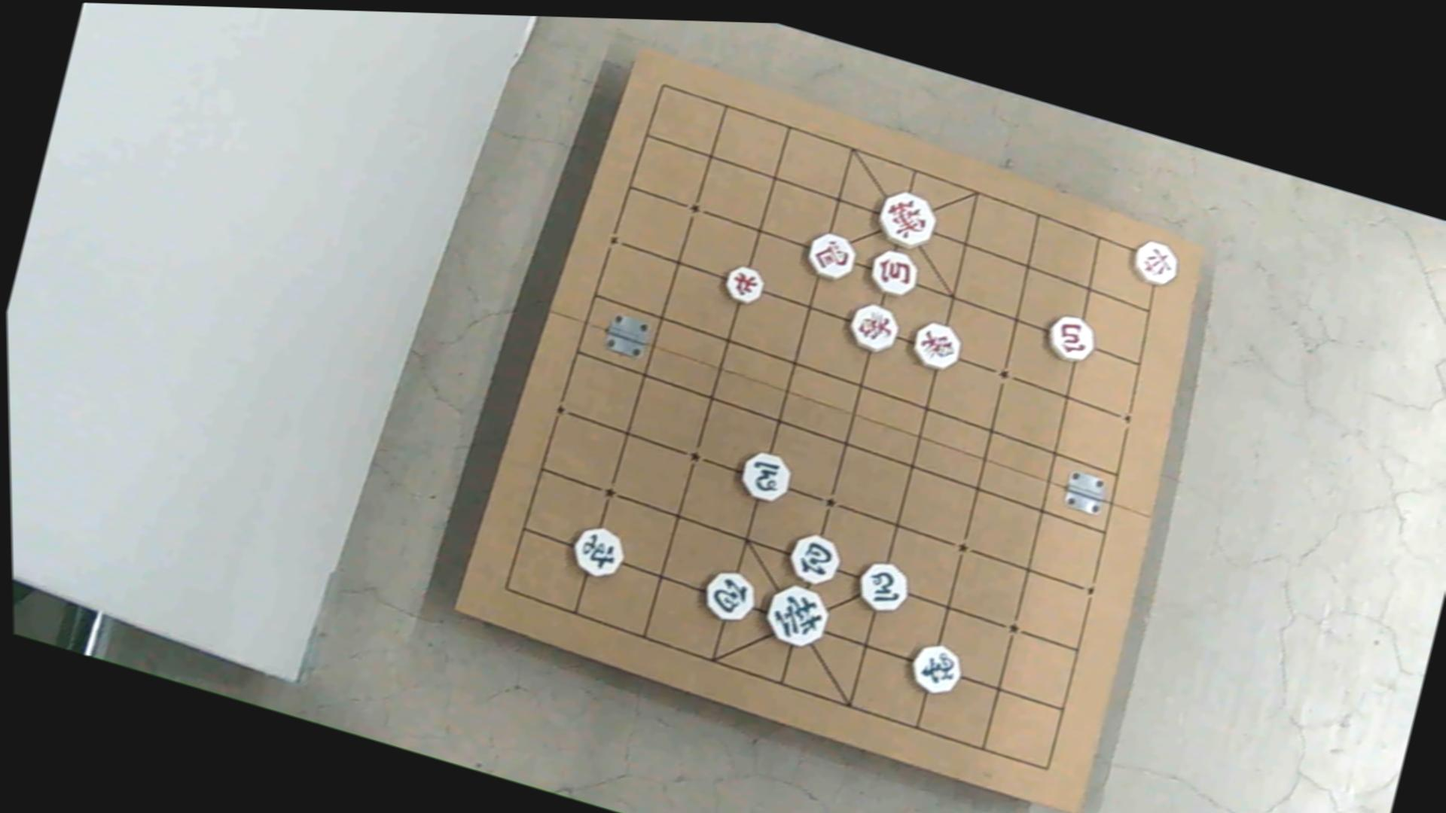cha_green: (569, 521, 630, 582)
cha_red: (1129, 237, 1182, 290)
jol_red: (721, 260, 767, 306)
ma_green: (853, 558, 914, 618), (697, 568, 757, 627), (736, 447, 795, 506)
ma_red: (804, 229, 862, 285)
po_green: (784, 528, 847, 592)
po_red: (866, 247, 923, 303), (1042, 312, 1100, 367)
sang_green: (905, 640, 966, 699)
sang_red: (907, 318, 964, 375), (846, 300, 904, 356)
wang_green: (758, 579, 833, 653)
wang_red: (875, 186, 943, 251)
